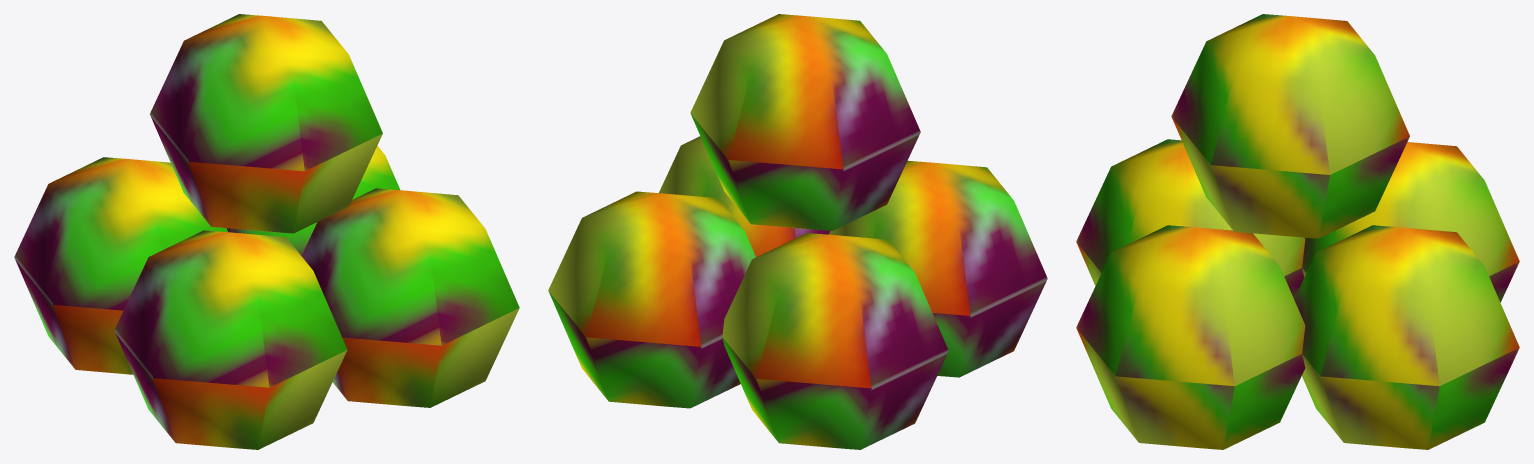
Rendered from Marbles.fbx.
3 views of the same model, side by side, from view 1: azimuth 30°, elevation 25°; view 2: azimuth 150°, elevation 25°; view 3: azimuth 270°, elevation 25° (orthographic). The views are drawn at different scales.
Visible parts, largest first — view 1: Marbles; view 2: Marbles; view 3: Marbles.
Part boxes in pixels (bbox=[...]): Marbles: bbox=[14, 14, 519, 449]; Marbles: bbox=[548, 14, 1047, 449]; Marbles: bbox=[1076, 14, 1519, 449].
Bounding box in the file's own units: 24.37 × 23.98 × 24.93.
